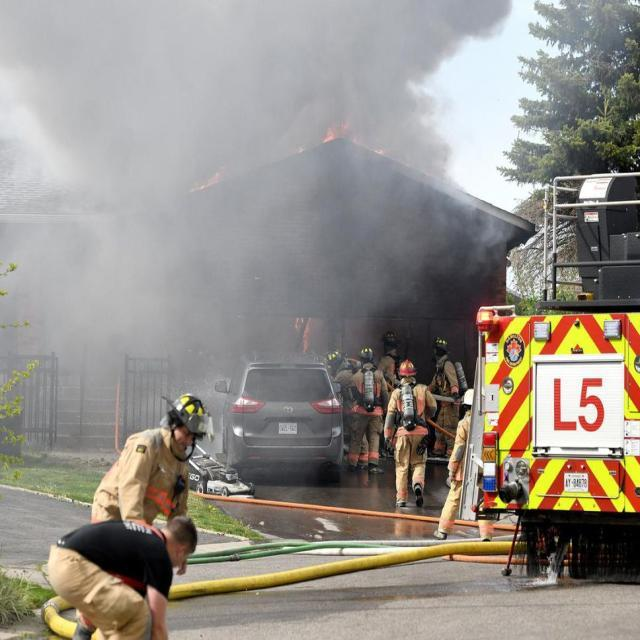Smoke: (0, 5, 545, 470)
